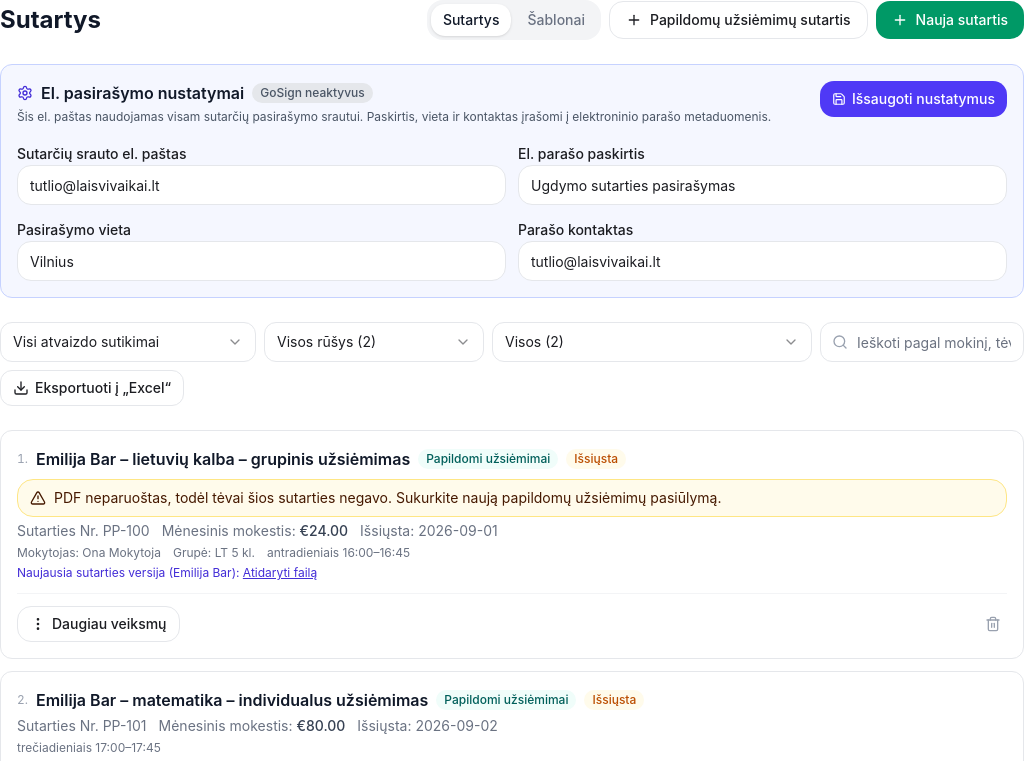
it: CompanyContracts extra-lessons list › requires acknowledgement when terminating a contract would leave only two group students
Click the button "Daugiau veiksmų" at {"x": 98, "y": 624}, box [17,606,180,642]
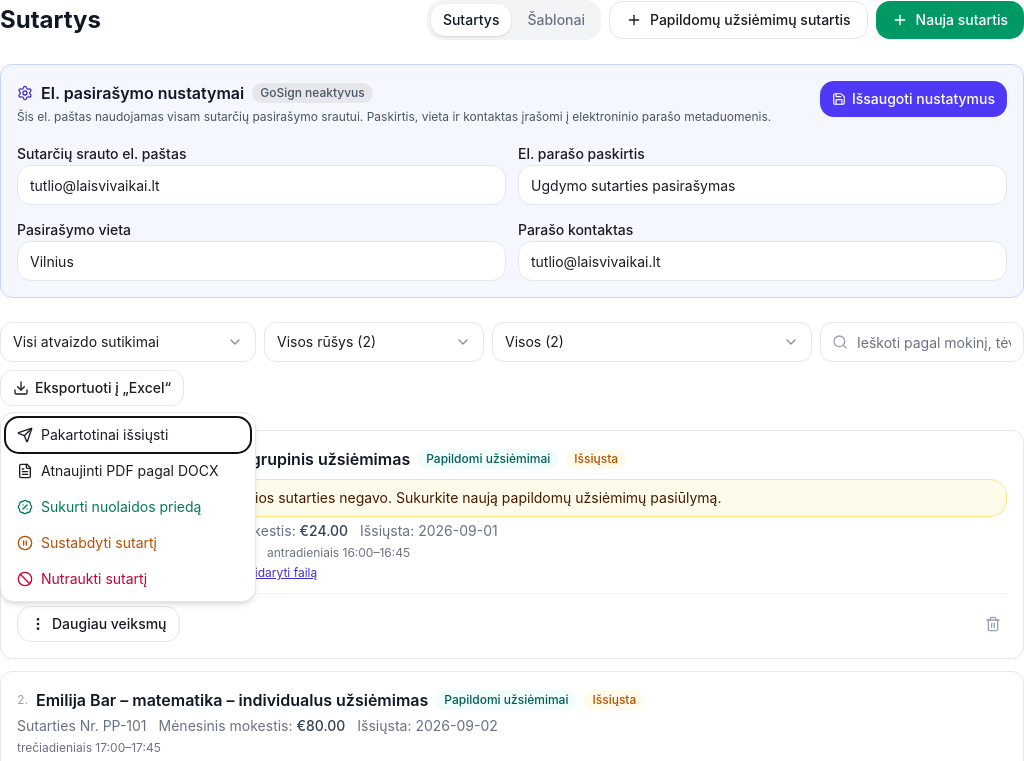
Click the button "Nutraukti sutartį" at {"x": 128, "y": 579}, box [5,561,251,597]
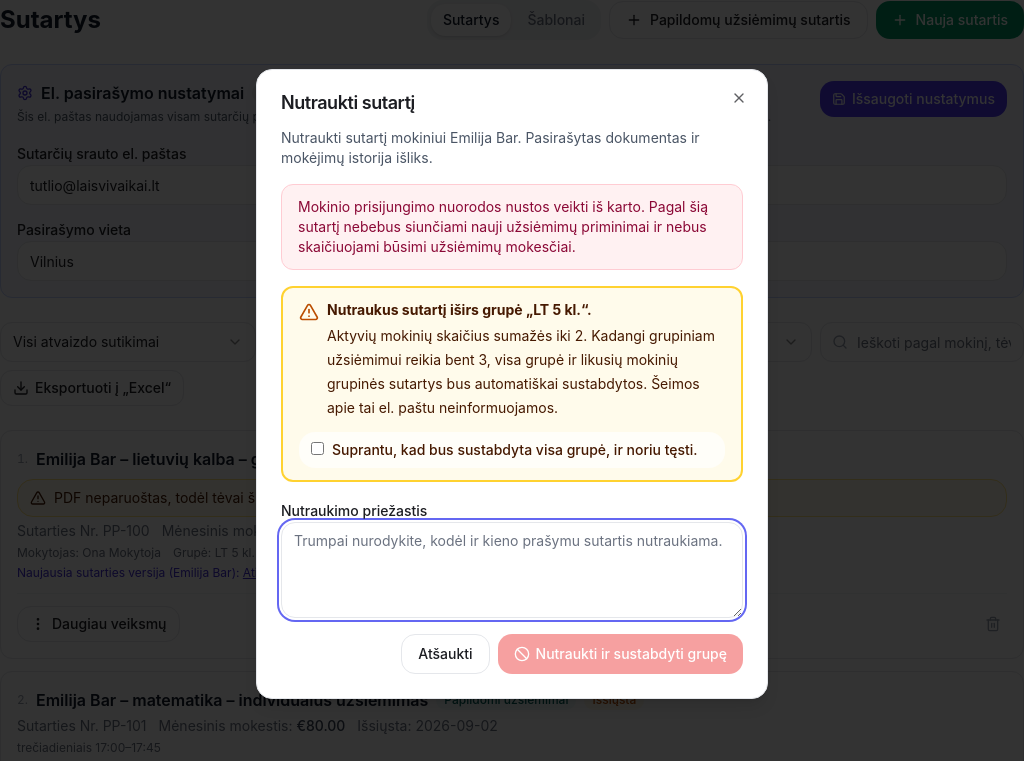
Check: the text "Nutraukus sutartį iširs grupė „LT 5 kl.“." is shown, box [327,301,592,318]
Check: the text "Šeimos apie tai el. paštu neinformuojamos" is shown, box [327,351,700,416]
Check: the button "Nutraukti ir sustabdyti grupę" is disabled, box [498,634,743,674]
Click the checkbox at {"x": 318, "y": 448}, box [311,442,324,455]
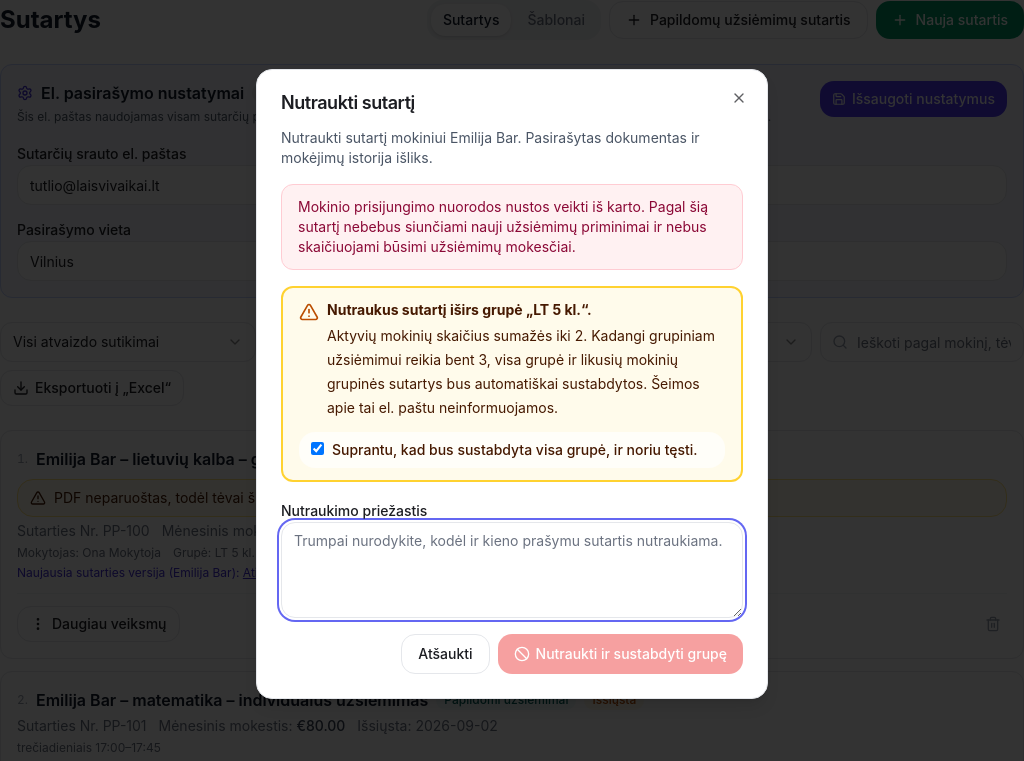
Replace the text in the text box with placeholder "Trumpai nurodykite, kodėl ir kieno prašymu sutartis nutraukiama." with "Tėvų prašymu" at {"x": 512, "y": 570}, box [281,522,743,618]
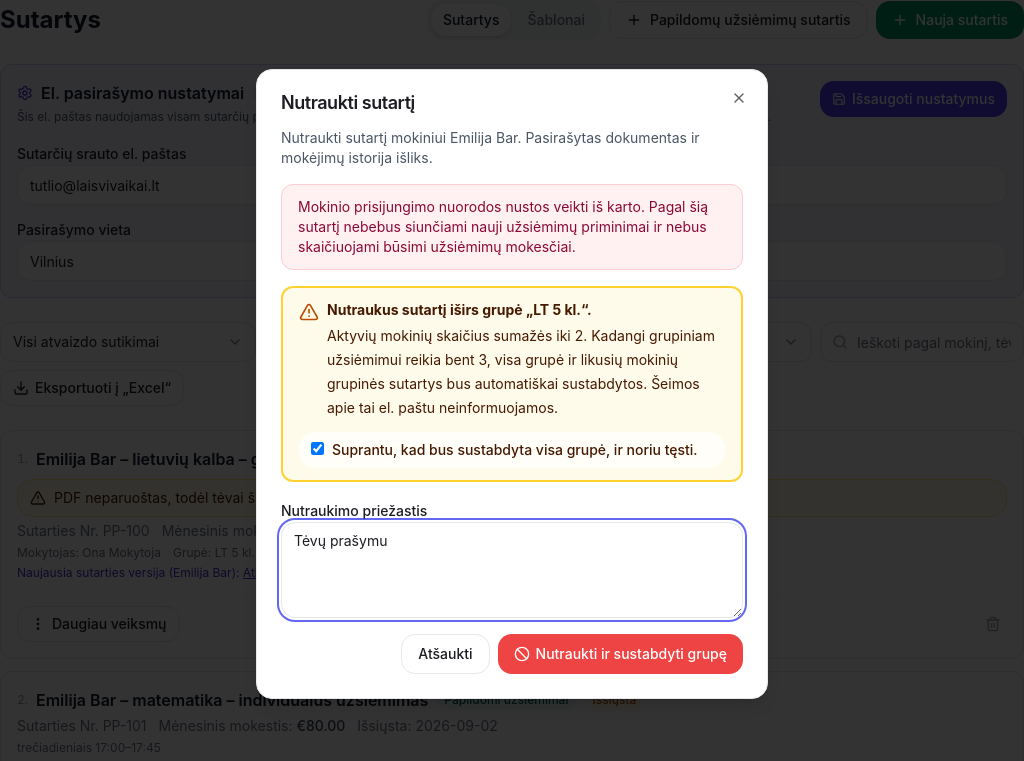
Check: the button "Nutraukti ir sustabdyti grupę" is enabled, box [498,634,743,674]
